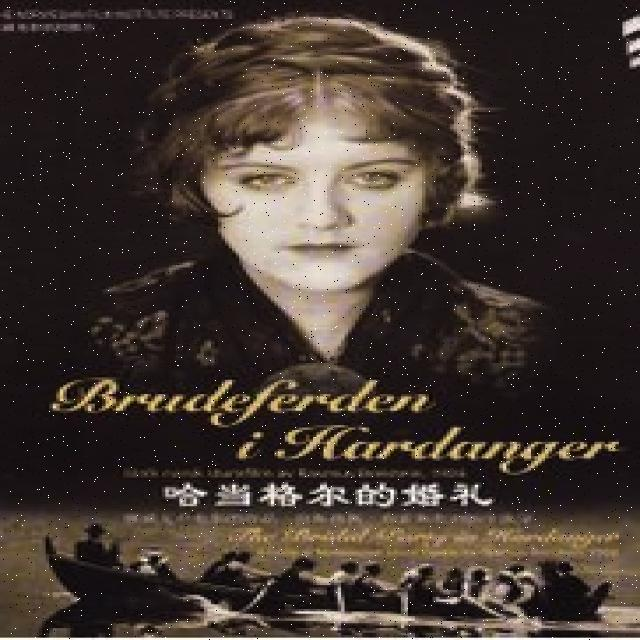movie-judul: (40, 365, 640, 567)
picture: (7, 0, 640, 640)
